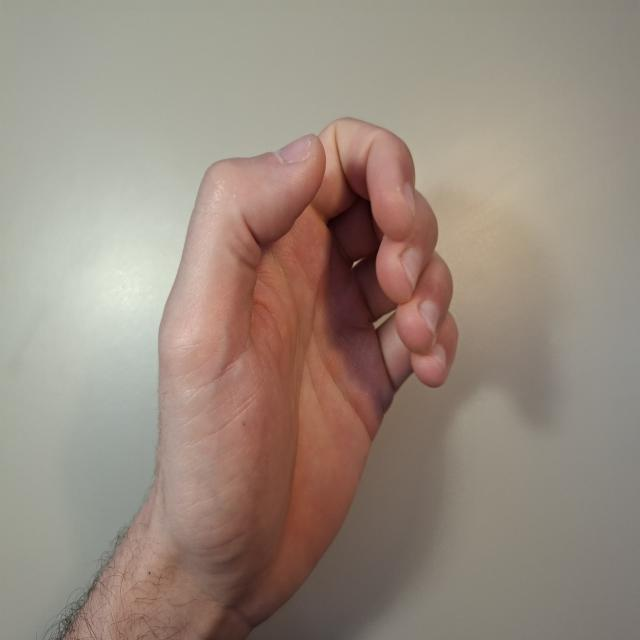glove_off: (152, 114, 461, 630)
